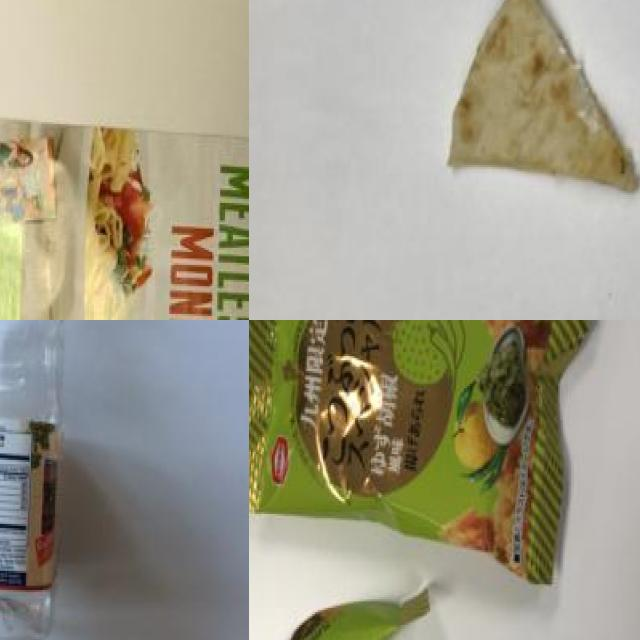compost: (431, 0, 640, 214)
paper: (0, 106, 249, 320)
plastic: (0, 320, 83, 640)
trash: (249, 320, 612, 593)
